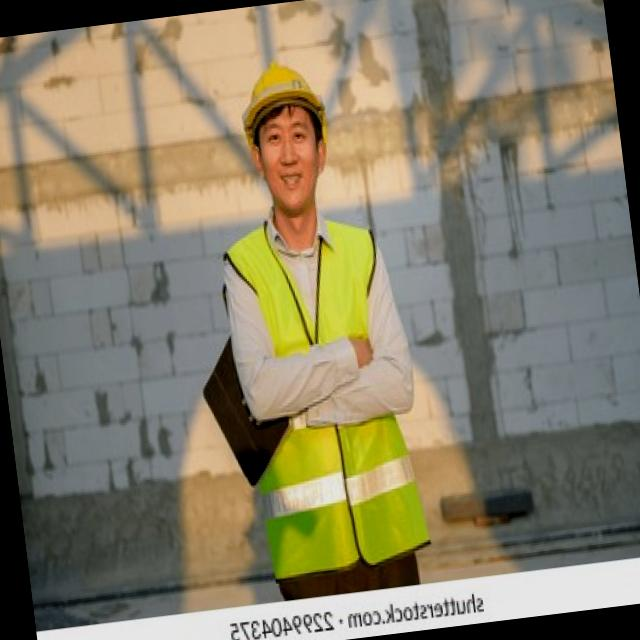helmet: (235, 59, 327, 128)
no-goggles: (252, 118, 322, 146)
vest: (219, 216, 428, 584)
